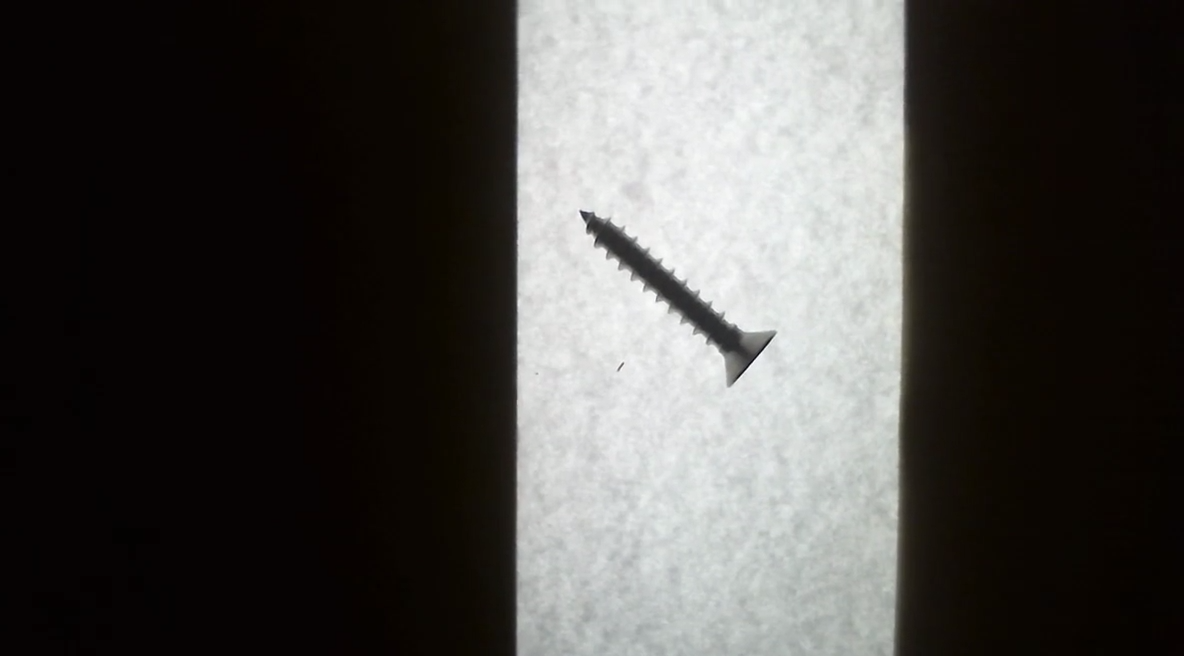S001: (568, 199, 802, 406)
